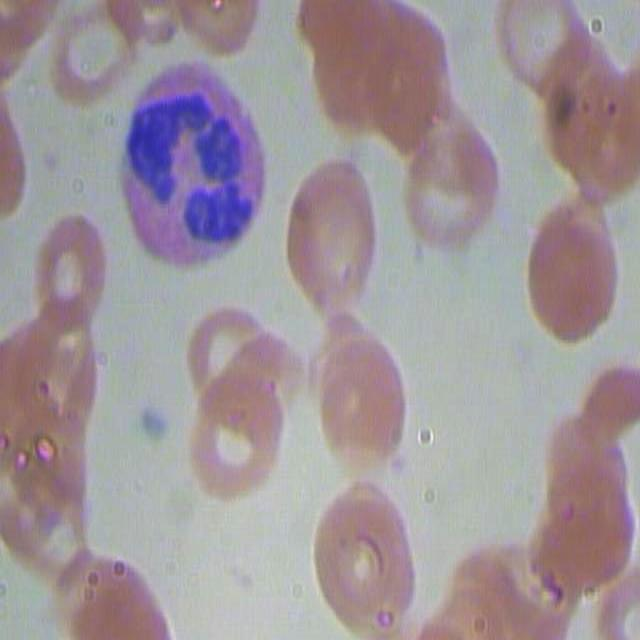RBC: (289, 8, 512, 246), (0, 187, 101, 614), (297, 142, 414, 496), (516, 12, 632, 333), (269, 485, 443, 640), (0, 522, 218, 640), (192, 299, 301, 509)
WBC: (117, 70, 280, 256)
platelets: (138, 390, 182, 472)
